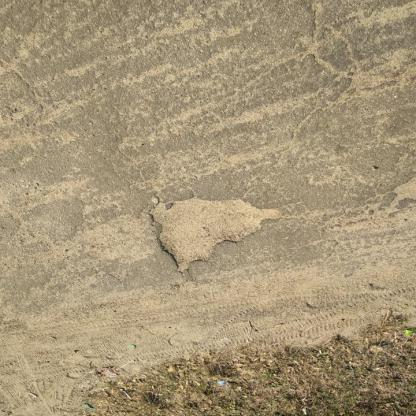pothole: (148, 195, 284, 278)
